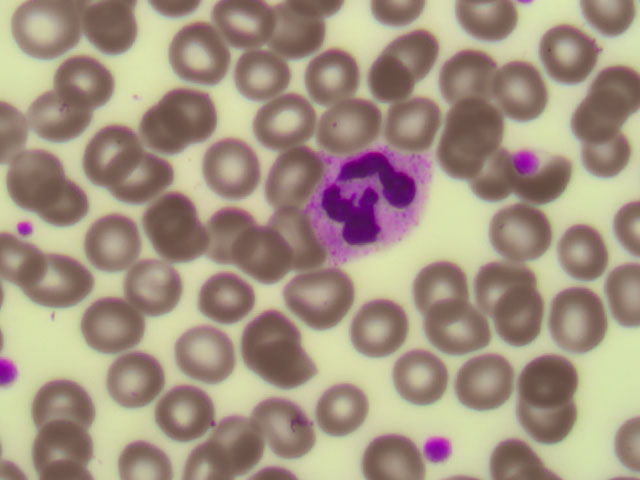Platelets: (424, 434, 449, 463), (1, 357, 23, 389), (517, 149, 538, 177), (16, 220, 40, 238)
RBC: (112, 418, 180, 480), (360, 418, 428, 480), (44, 51, 112, 112), (30, 91, 98, 152), (4, 150, 72, 211), (40, 176, 108, 237), (70, 121, 138, 182), (101, 147, 169, 208), (122, 102, 190, 163), (156, 85, 224, 146), (157, 30, 225, 91), (226, 40, 294, 101), (245, 94, 313, 155), (193, 140, 261, 201), (194, 195, 262, 256), (155, 204, 223, 265), (86, 214, 154, 275), (121, 260, 189, 321), (83, 295, 151, 356), (31, 255, 99, 316), (99, 349, 167, 410), (37, 373, 105, 434), (30, 413, 98, 474), (147, 381, 215, 442), (177, 327, 245, 388), (190, 261, 258, 322), (224, 302, 292, 363), (248, 336, 316, 397), (256, 400, 324, 461), (196, 415, 264, 476), (309, 385, 377, 446), (344, 303, 412, 364), (285, 263, 353, 324), (259, 202, 327, 263), (230, 227, 298, 288), (262, 140, 330, 201), (298, 94, 366, 155), (300, 51, 368, 112), (348, 44, 416, 105), (378, 23, 446, 84), (273, 7, 341, 68), (375, 94, 443, 155), (414, 43, 482, 104), (472, 55, 540, 116), (441, 92, 509, 153), (431, 128, 499, 189), (453, 146, 521, 207), (566, 131, 634, 192), (572, 77, 640, 138), (569, 39, 637, 100), (532, 21, 600, 82), (543, 225, 611, 286), (494, 205, 562, 266), (469, 254, 537, 315), (487, 296, 555, 357), (427, 308, 495, 369), (409, 254, 477, 315), (393, 355, 461, 416), (452, 352, 520, 413), (527, 340, 595, 401), (511, 386, 579, 447), (544, 286, 612, 347), (11, 1, 79, 61), (206, 1, 274, 61)
WBC: (316, 143, 429, 260)
